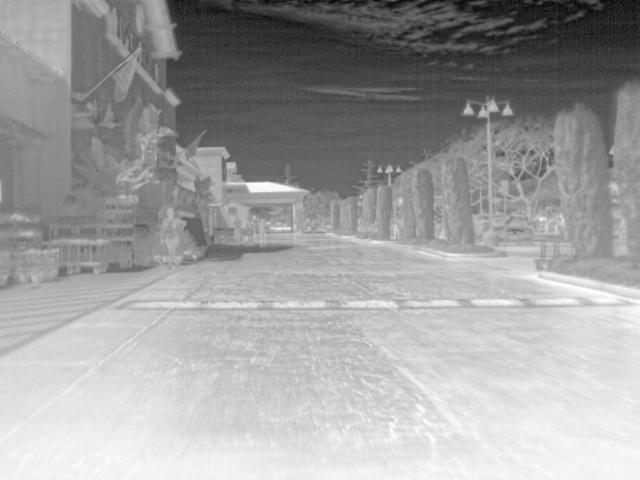car: (484, 213, 537, 245), (433, 219, 446, 239)
person: (160, 205, 186, 270), (230, 214, 244, 244), (244, 215, 257, 243), (257, 218, 269, 246), (390, 222, 402, 238)
